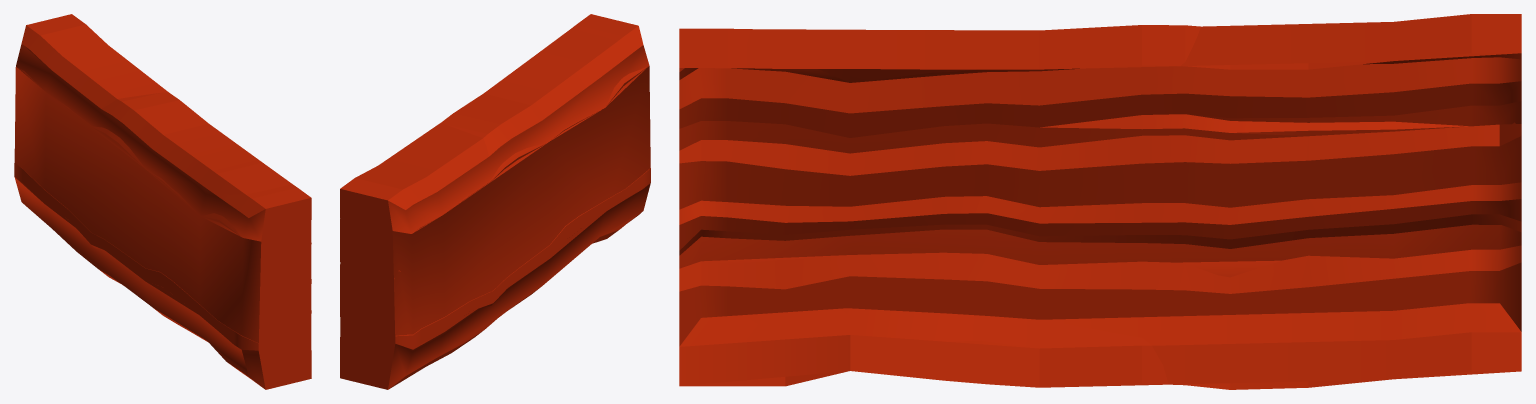
File: SM_Cave_Wall_01.fbx
3 views of the same model, side by side, from view 1: azimuth 30°, elevation 25°; view 2: azimuth 150°, elevation 25°; view 3: azimuth 270°, elevation 25° (orthographic). The views are drawn at different scales.
Visible parts, largest first — view 1: SM_Cave_Wall_01_col, SM_Cave_Wall_01; view 2: SM_Cave_Wall_01_col, SM_Cave_Wall_01; view 3: SM_Cave_Wall_01, SM_Cave_Wall_01_col.
Part boxes in pixels (bbox=[...]): SM_Cave_Wall_01_col: bbox=[14, 44, 311, 389]; SM_Cave_Wall_01: bbox=[14, 14, 311, 389]; SM_Cave_Wall_01_col: bbox=[340, 29, 650, 389]; SM_Cave_Wall_01: bbox=[340, 14, 650, 389]; SM_Cave_Wall_01: bbox=[679, 14, 1521, 389]; SM_Cave_Wall_01_col: bbox=[679, 22, 1521, 387].
Bounding box in the file's own units: 409 × 1178 × 2670.
